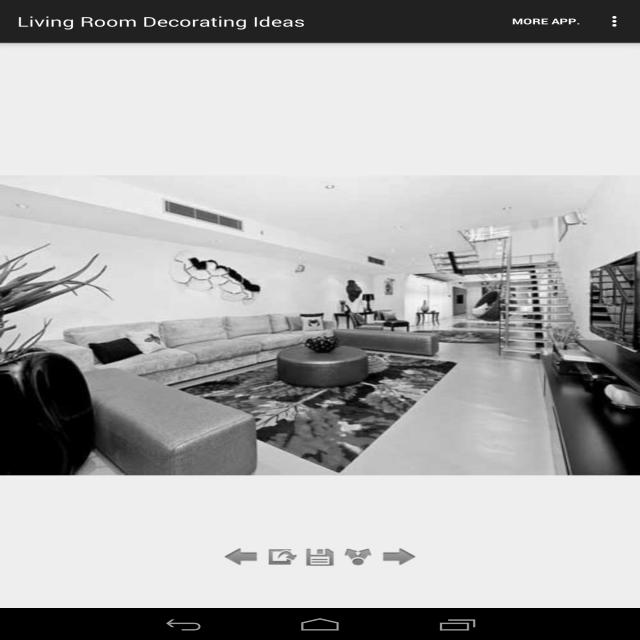ImageButton: (297, 545, 343, 569), (376, 545, 426, 566), (219, 546, 261, 565), (603, 12, 623, 30)
ImageView: (11, 174, 616, 477)
TextView: (11, 12, 312, 30), (503, 15, 580, 29)
